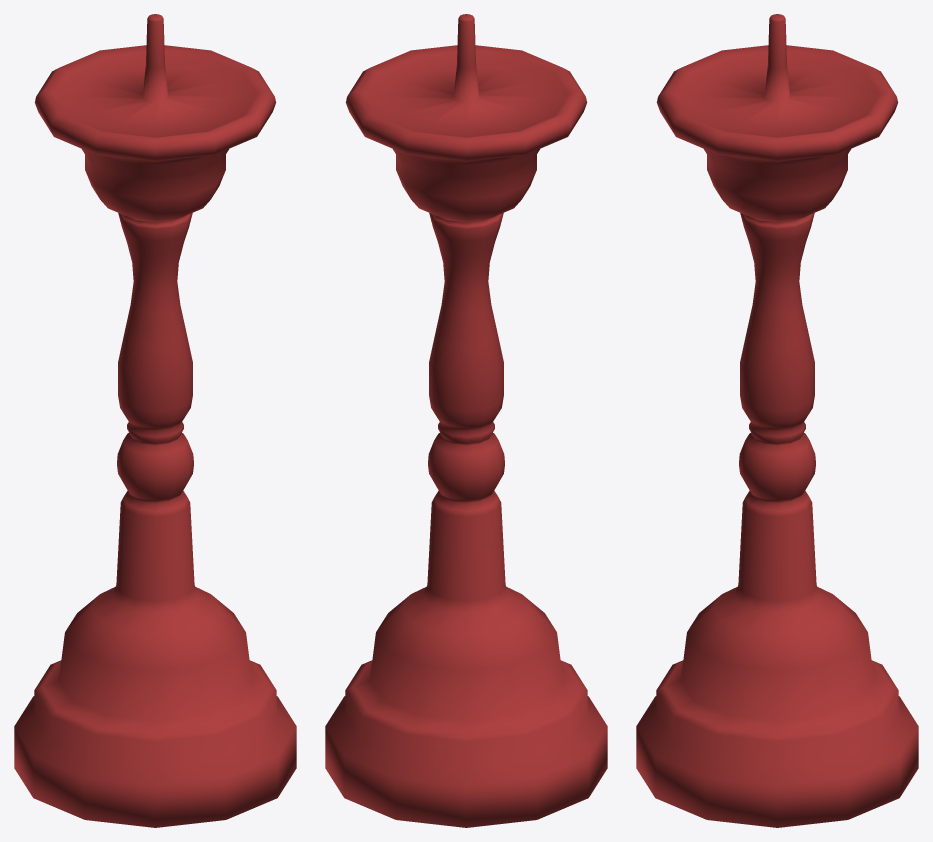
Rendered from st2_candlestick_wood_low.fbx.
3 views of the same model, side by side, from view 1: azimuth 30°, elevation 25°; view 2: azimuth 150°, elevation 25°; view 3: azimuth 270°, elevation 25° (orthographic).
Visible parts, largest first — view 1: st2_candlestick_wood_low; view 2: st2_candlestick_wood_low; view 3: st2_candlestick_wood_low.
Boxes of the visible parts, box(x1,y1,x2,y2) form: st2_candlestick_wood_low: box(14, 14, 296, 827); st2_candlestick_wood_low: box(325, 14, 607, 827); st2_candlestick_wood_low: box(636, 14, 918, 827).
Bounding box in the file's own units: 198 × 581 × 198.
